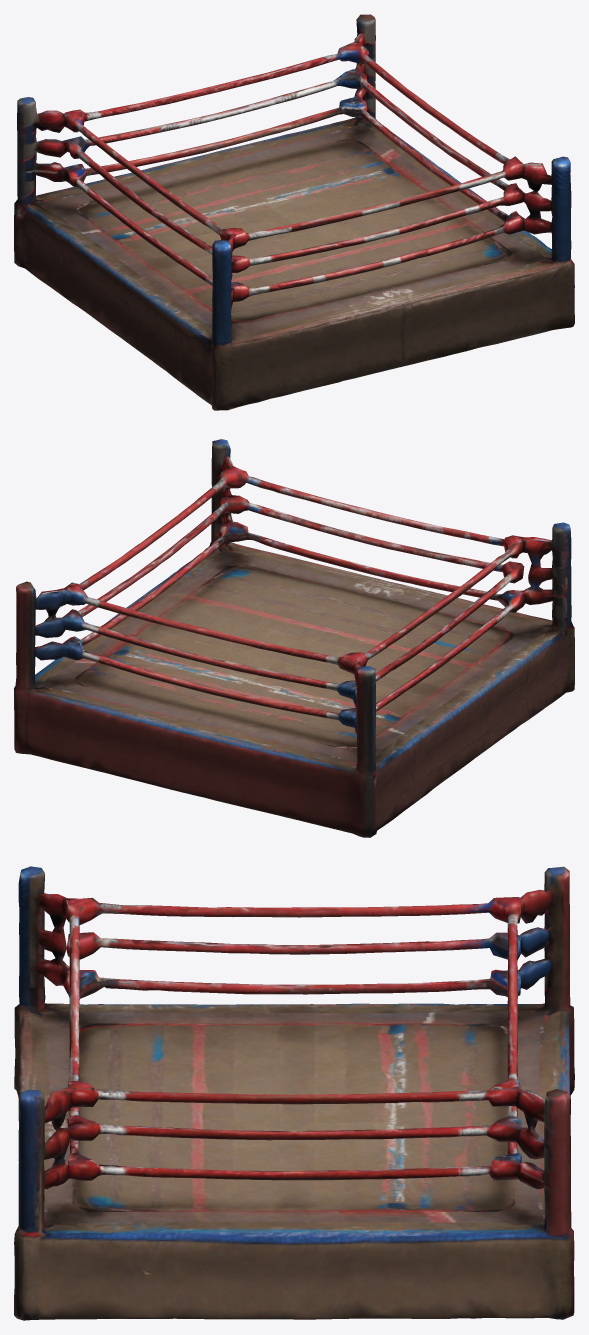
File: Make_A_detailed_Boxin_0319105657_texture 1.obj
The picture shows the model from 3 angles, top to bottom: view 1: azimuth 30°, elevation 25°; view 2: azimuth 150°, elevation 25°; view 3: azimuth 270°, elevation 25°; orthographic projection. The views are drawn at different scales.
Visible parts, largest first — view 1: Make_A_detailed_Boxin_0319105657_texture; view 2: Make_A_detailed_Boxin_0319105657_texture; view 3: Make_A_detailed_Boxin_0319105657_texture.
Boxes of the visible parts, x1,y1,x2,y2 form: Make_A_detailed_Boxin_0319105657_texture: (14,14,574,410); Make_A_detailed_Boxin_0319105657_texture: (14,439,574,837); Make_A_detailed_Boxin_0319105657_texture: (14,866,574,1320).
Bounding box in the file's own units: 2.01 × 0.8837 × 2.01.
